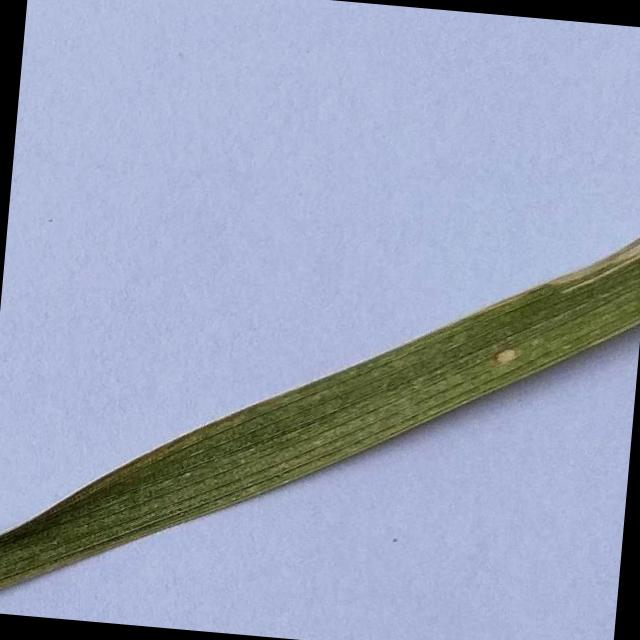Rice_Blast: (482, 326, 524, 369)
